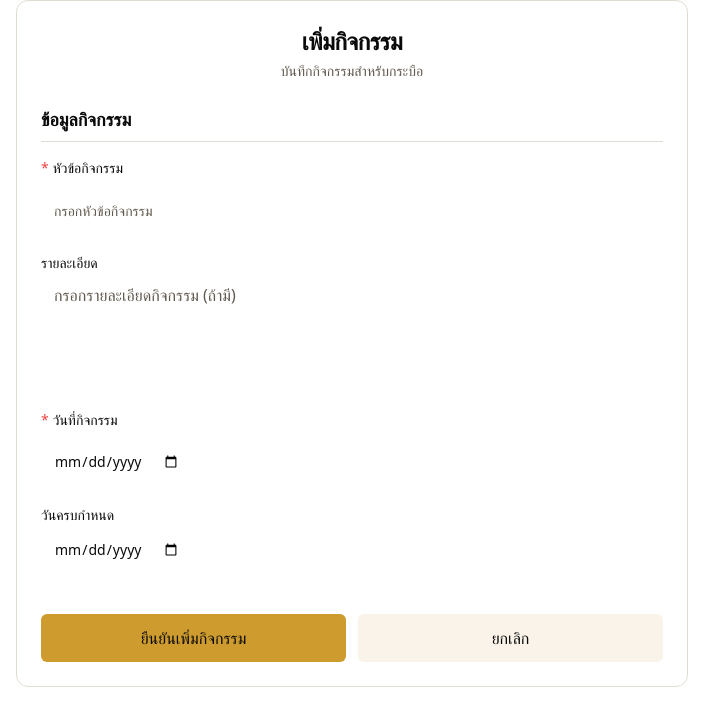
Test case: CreateActivityForm Component › Form Validation › shows validation error when submitting without activity date
This screenshot has width=705, height=720.
Type "ตรวจสุขภาพ" into the field labelled "* หัวข้อกิจกรรม" at (352, 210), box [41,186,663,234]
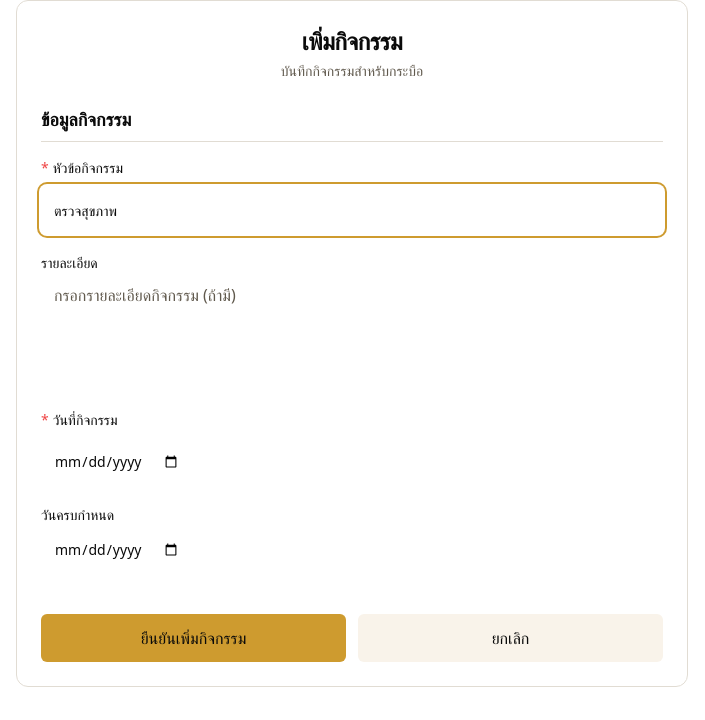
Click the button "ยืนยันเพิ่มกิจกรรม" at (194, 638), box [41,614,346,662]
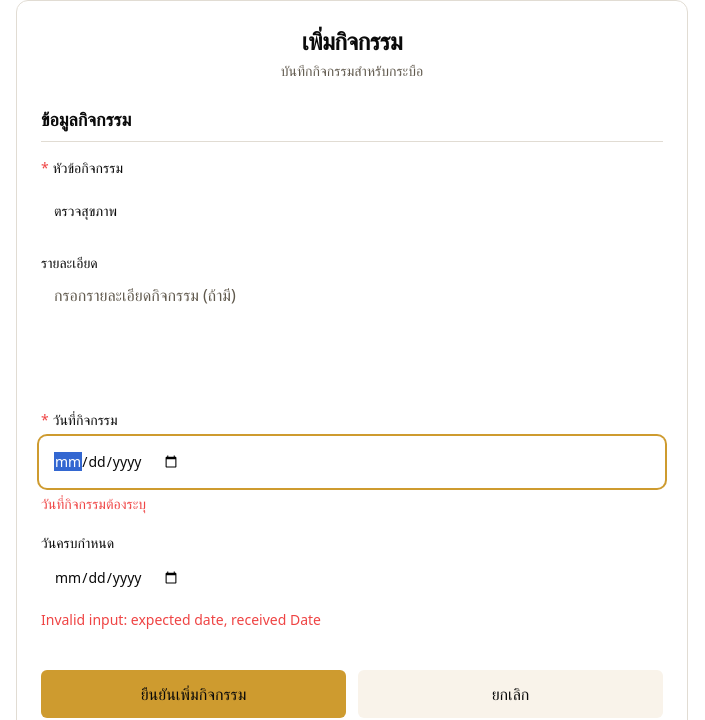
Expected: the text "วันที่กิจกรรมต้องระบุ" is shown, [41,494,146,513]
